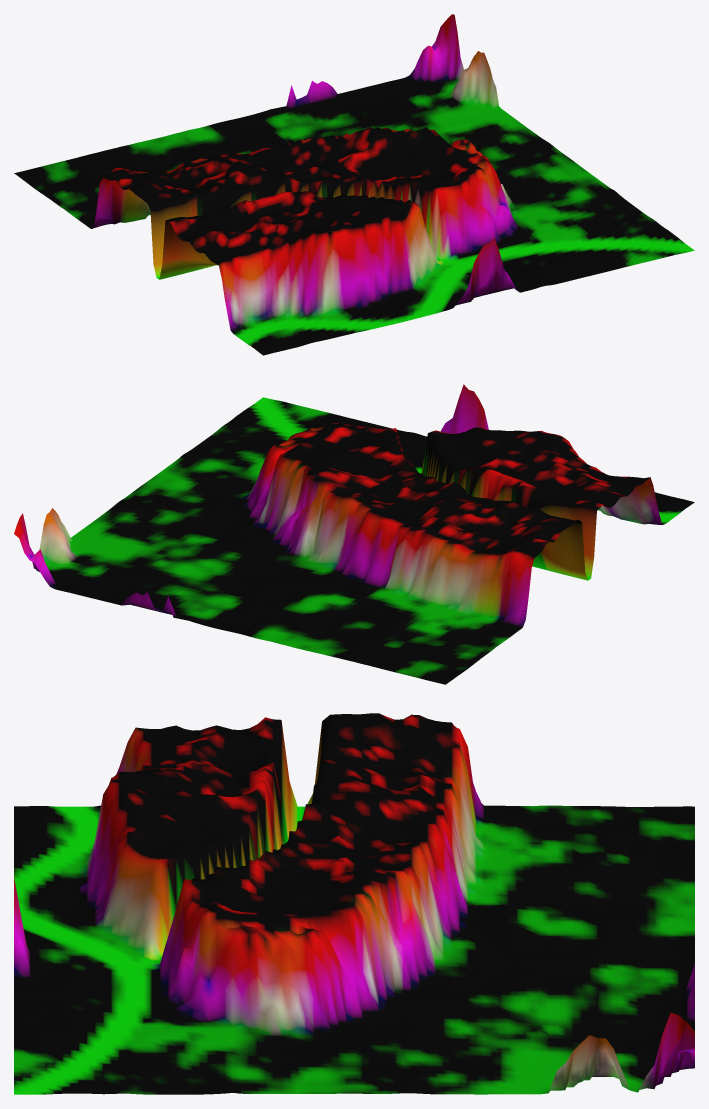
File: SM_AlUla_Terrain_3_2.fbx
3 views of the same model, one above another, from view 1: azimuth 30°, elevation 25°; view 2: azimuth 150°, elevation 25°; view 3: azimuth 270°, elevation 25° (orthographic). The views are drawn at different scales.
Parts seen in each view (by area): view 1: SM_AlUla_Terrain_3_2; view 2: SM_AlUla_Terrain_3_2; view 3: SM_AlUla_Terrain_3_2.
Part boxes in pixels (left/top/right/bottom): SM_AlUla_Terrain_3_2: left=14, top=14, right=694, bottom=355; SM_AlUla_Terrain_3_2: left=14, top=384, right=694, bottom=684; SM_AlUla_Terrain_3_2: left=14, top=713, right=694, bottom=1094.
Size of the model in its own units: 50400 by 7997 by 50400.
